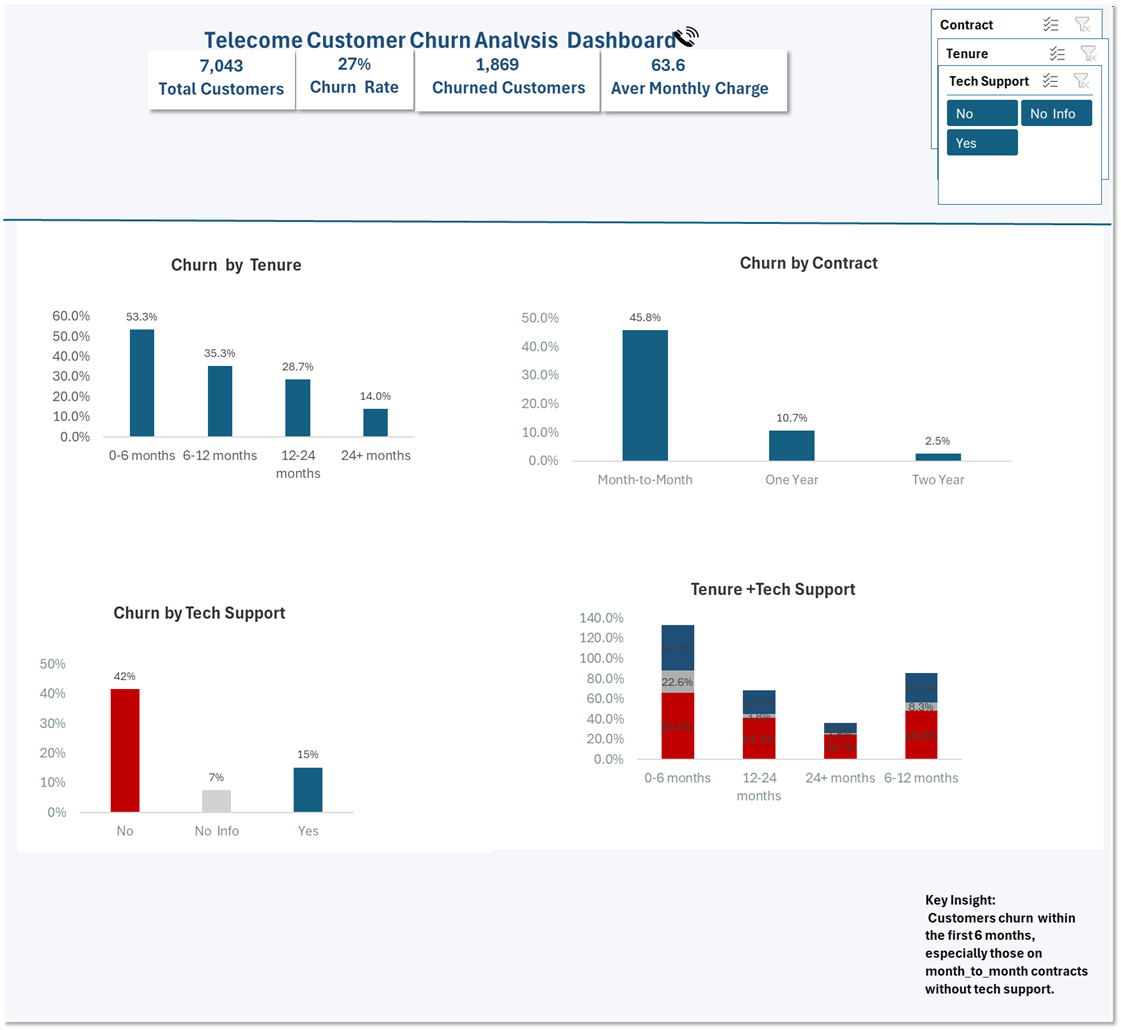

Layout of this report page (visuals, bound fields, positions):
{"tool":"powerbi","page":{"name":"Page 1","canvas":[1800,1400],"ordinal":0},"visuals":[{"type":"shape","box":[331.1,333.3,1255.6,1066.7],"z":0},{"type":"card","fields":{"Values":["public churn_analysis_view.Total Customers"]},"box":[0,116.7,282.2,95.6],"z":1000},{"type":"card","fields":{"Values":["public churn_analysis_view.Measure 2 Churn Rate"]},"box":[339.8,116.7,280,95.6],"z":2000},{"type":"hundredPercentStackedColumnChart","title":" Churn Rate by Customer Tenure ","fields":{"Category":["public churn_analysis_view.tenure_group"],"Series":["public churn_analysis_view.customer_status"],"Y":["Count(public churn_analysis_view.customer_id)"]},"box":[1060,333.3,526.7,628.9],"z":3000},{"type":"clusteredColumnChart","title":"Churn Rate by Tech Support Status","fields":{"Y":["public churn_analysis_view.Churn Rate percentage"],"Category":["public churn_analysis_view.Tech Support clean"]},"box":[395.4,986.2,593.8,413.8],"z":4000},{"type":"card","fields":{"Values":["public churn_analysis_view.Total Revenue"]},"box":[1015,116.7,278.3,96.7],"z":5000},{"type":"card","fields":{"Values":["public churn_analysis_view.Avg Monthly Charge"]},"box":[677.4,116.7,280,96.7],"z":6000},{"type":"hundredPercentStackedColumnChart","title":"Customer Retention by Tenure & Tech Support","fields":{"Category":["public churn_analysis_view.tenure_group"],"Y":["CountNonNull(public churn_analysis_view.customer_id)"],"Series":["public churn_analysis_view.Tech Support clean"]},"box":[1047.1,961.8,579.4,438.2],"z":7000},{"type":"slicer","title":"Filter by contract","fields":{"Values":["public churn_analysis_view.contract"]},"box":[15.6,555.6,253.3,144.4],"z":8000},{"type":"clusteredColumnChart","title":"Churn Risk by  Contract Type","fields":{"Category":["public churn_analysis_view.contract"],"Y":["public churn_analysis_view.Churn Rate by Contract"]},"box":[420.6,332.4,594.1,617.6],"z":9000},{"type":"textbox","box":[0,0,618.5,86.2],"z":10000},{"type":"textbox","box":[1371.1,0,428.9,231.1],"z":11000},{"type":"shape","box":[0,245,1800,13.3],"z":14000},{"type":"shape","box":[397.1,950,1182.4,11.8],"z":15000}]}

Visuals, with their boxes on the page's 1800x1400 design canvas (x1, y1, x2, y2). These are canvas units, not pixel positions in the 1121x1030 screenshot, which may show the page scaled, cropped or inside an application window:
shape: x1=331, y1=333, x2=1587, y2=1400
card - public churn_analysis_view.Total Customers: x1=0, y1=117, x2=282, y2=212
card - public churn_analysis_view.Measure 2 Churn Rate: x1=340, y1=117, x2=620, y2=212
" Churn Rate by Customer Tenure " hundredPercentStackedColumnChart: x1=1060, y1=333, x2=1587, y2=962
"Churn Rate by Tech Support Status" clusteredColumnChart: x1=395, y1=986, x2=989, y2=1400
card - public churn_analysis_view.Total Revenue: x1=1015, y1=117, x2=1293, y2=213
card - public churn_analysis_view.Avg Monthly Charge: x1=677, y1=117, x2=957, y2=213
"Customer Retention by Tenure & Tech Support" hundredPercentStackedColumnChart: x1=1047, y1=962, x2=1626, y2=1400
"Filter by contract" slicer: x1=16, y1=556, x2=269, y2=700
"Churn Risk by  Contract Type" clusteredColumnChart: x1=421, y1=332, x2=1015, y2=950
textbox: x1=0, y1=0, x2=618, y2=86
textbox: x1=1371, y1=0, x2=1800, y2=231
shape: x1=0, y1=245, x2=1800, y2=258
shape: x1=397, y1=950, x2=1580, y2=962
